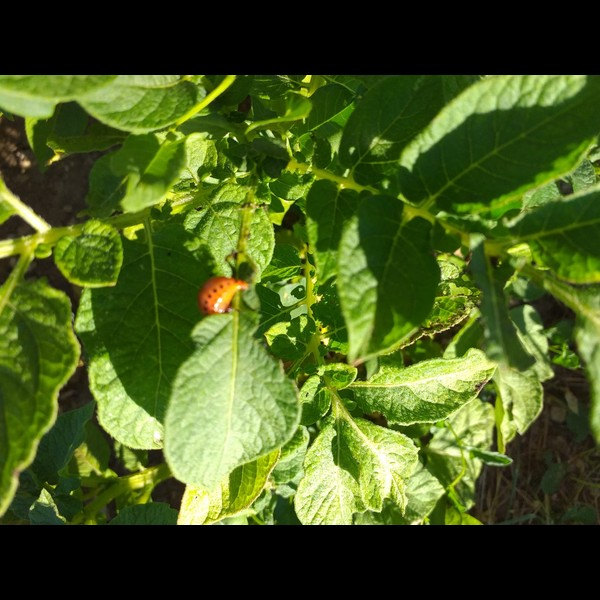hrosc: (197, 275, 247, 318)
